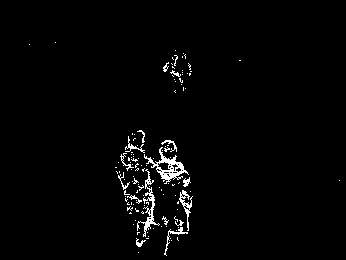person: (155, 140, 192, 255), (118, 130, 154, 247)
